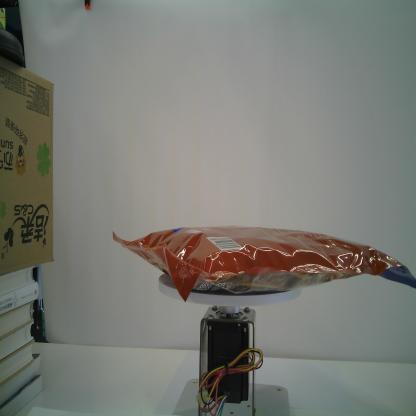Dried Food: (112, 224, 416, 304)
